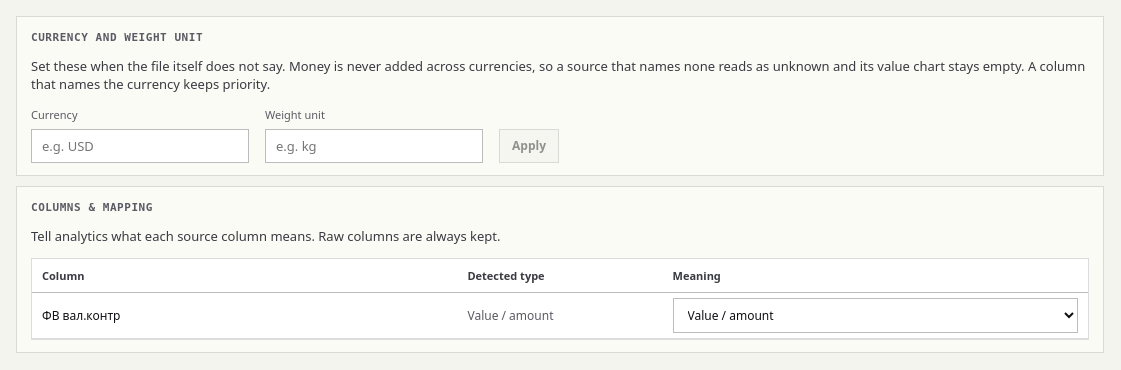
Test: Columns page currency control › pins a currency the source never states
The image size is (1121, 370).
Expected: the button "Apply" is disabled, x1=499 y1=129 x2=559 y2=163
Type "  usd  " into the field labelled "Currency". click: (140, 146)
box: x1=31 y1=129 x2=249 y2=163
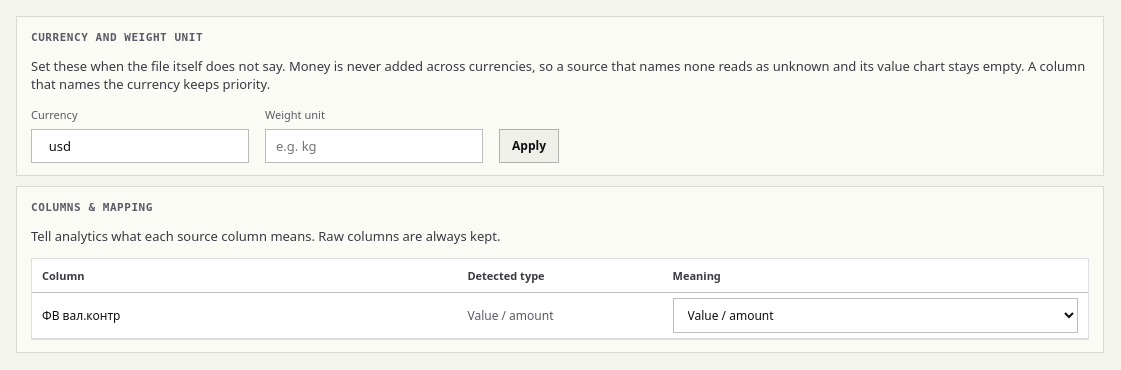
Expected: the button "Apply" is enabled
Click the button "Apply". click: (529, 146)
box: x1=499 y1=129 x2=559 y2=163
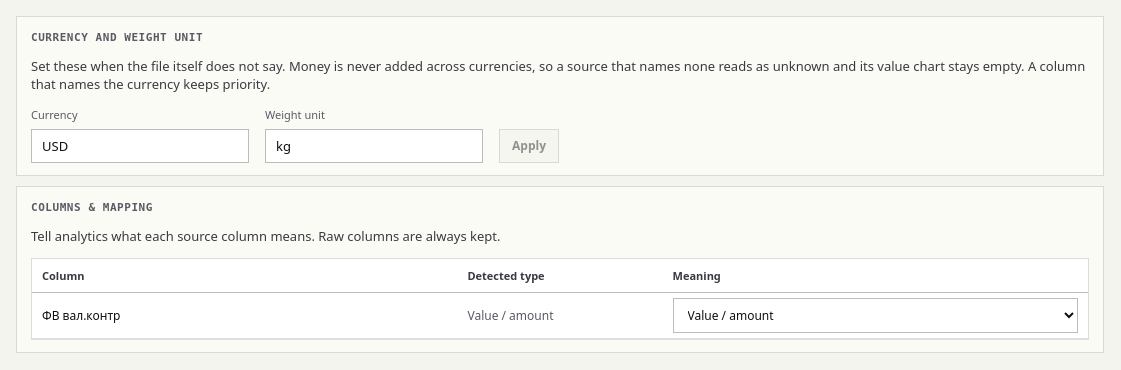
Expected: the field labelled "Weight unit" holds "kg", x1=265 y1=129 x2=483 y2=163
Expected: the button "Apply" is disabled, x1=499 y1=129 x2=559 y2=163
